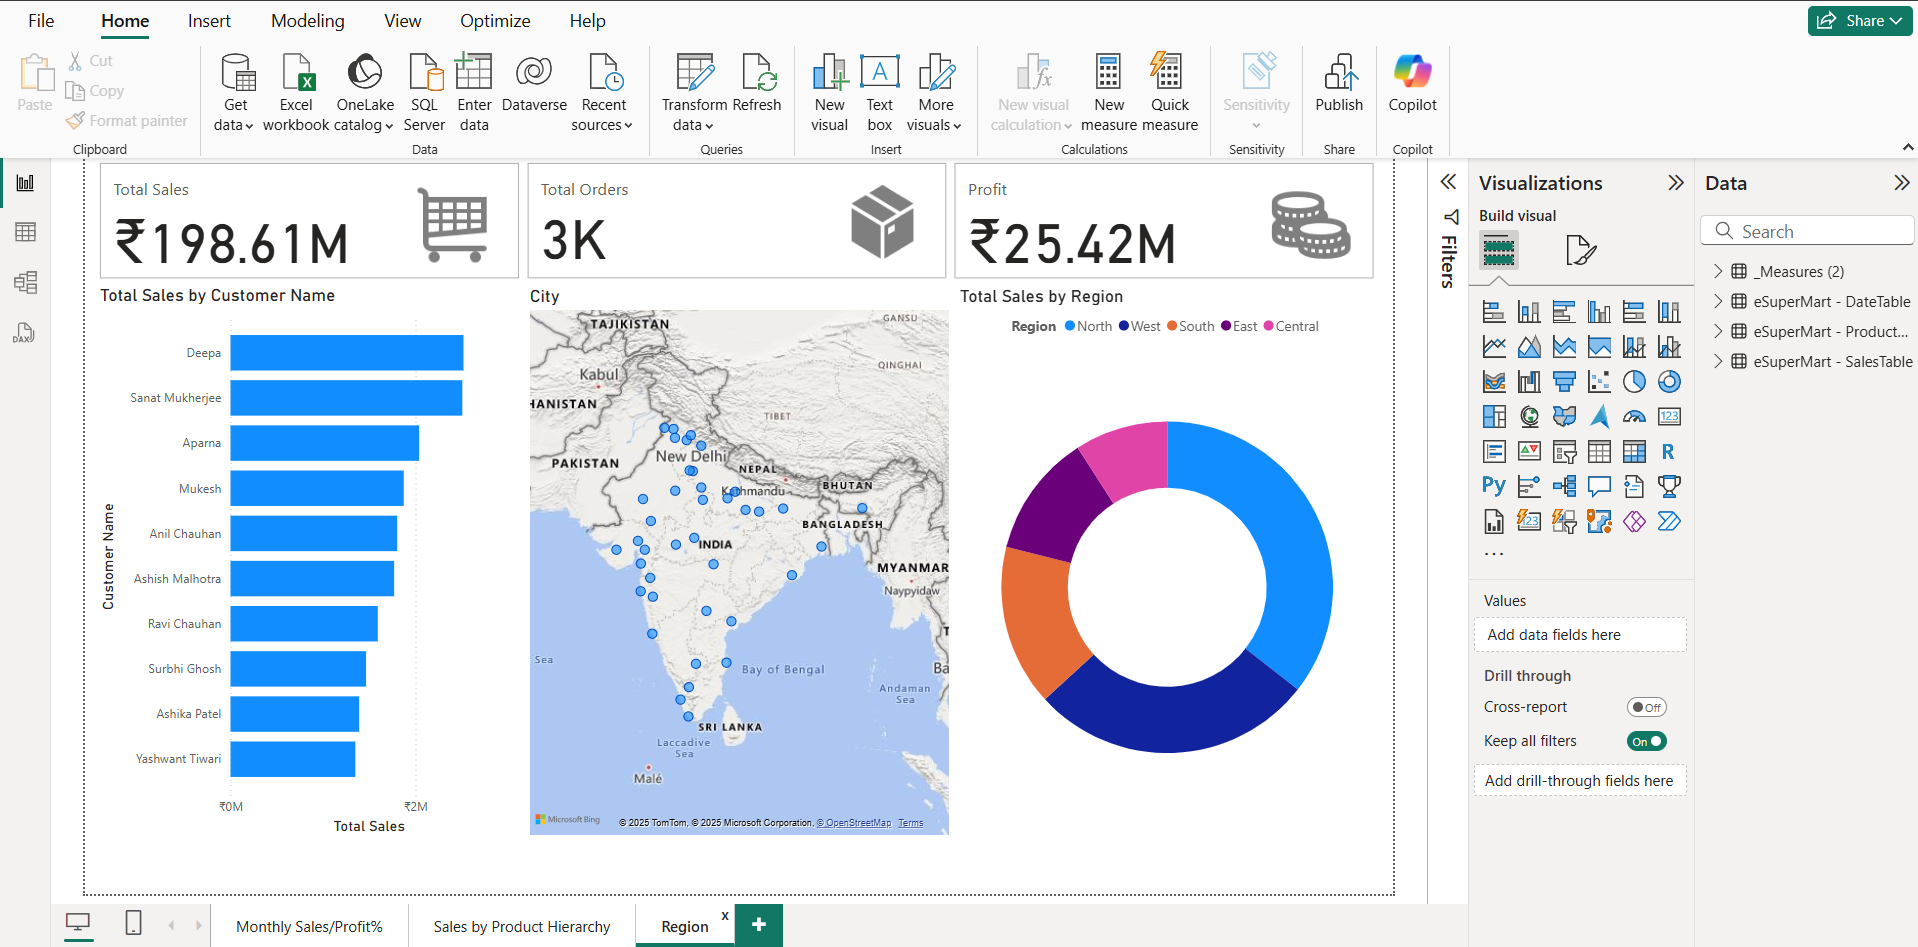

What the dashboard file says about the page in this screenshot:
{"tool":"powerbi","page":{"name":"Region","canvas":[1280,720],"ordinal":2},"visuals":[{"type":"cardVisual","fields":{"Data":["_Measures (2).Total Sales","_Measures (2).Total Orders","_Measures (2).Profit"]},"box":[9.6,0,1257,123.5],"z":0},{"type":"barChart","fields":{"Y":["_Measures (2).Total Sales"],"Category":["eSuperMart - SalesTable.Customer Name"]},"box":[9.6,123.5,421.3,543.4],"z":1000},{"type":"map","fields":{"Category":["eSuperMart - SalesTable.City"]},"box":[430.9,124.9,419.9,542],"z":2000},{"type":"donutChart","fields":{"Category":["eSuperMart - SalesTable.Region"],"Y":["_Measures (2).Total Sales"]},"box":[850.8,124.9,415.8,542],"z":3000}]}

Visuals, with their boxes on the page's 1280x720 design canvas (x1, y1, x2, y2). These are canvas units, not pixel positions in the 1918x947 screenshot, which may show the page scaled, cropped or inside an application window:
cardVisual - _Measures (2).Total Sales x _Measures (2).Total Orders: x1=10 y1=0 x2=1267 y2=124
barChart - _Measures (2).Total Sales x eSuperMart - SalesTable.Customer Name: x1=10 y1=124 x2=431 y2=667
map - eSuperMart - SalesTable.City: x1=431 y1=125 x2=851 y2=667
donutChart - eSuperMart - SalesTable.Region x _Measures (2).Total Sales: x1=851 y1=125 x2=1267 y2=667
